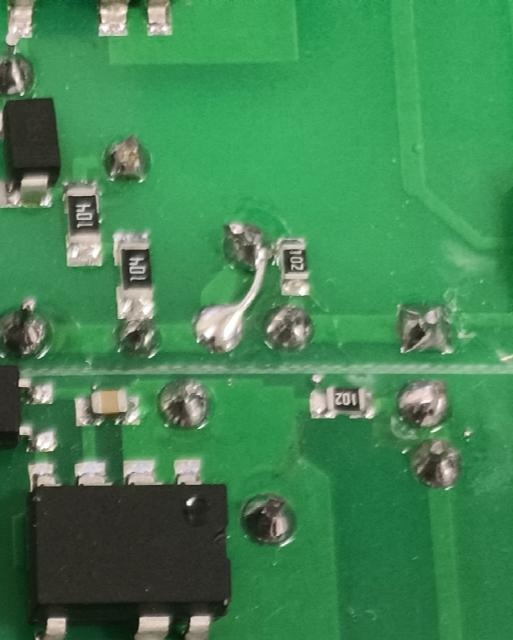chip-capacitor: (72, 388, 144, 427)
chip-resistor: (60, 177, 107, 267), (111, 230, 157, 321), (305, 385, 376, 420), (273, 235, 311, 297)
diode: (0, 96, 65, 211)
ic: (23, 459, 234, 640)
